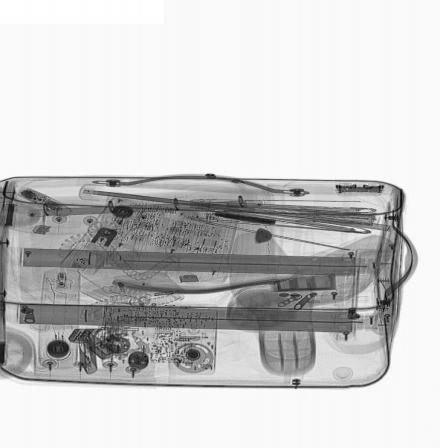Knife: (211, 211, 281, 226)
